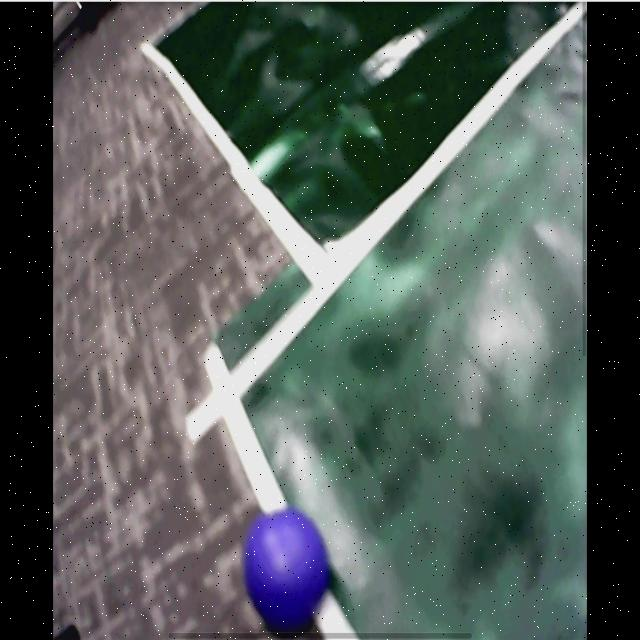ball: (249, 513, 327, 628)
